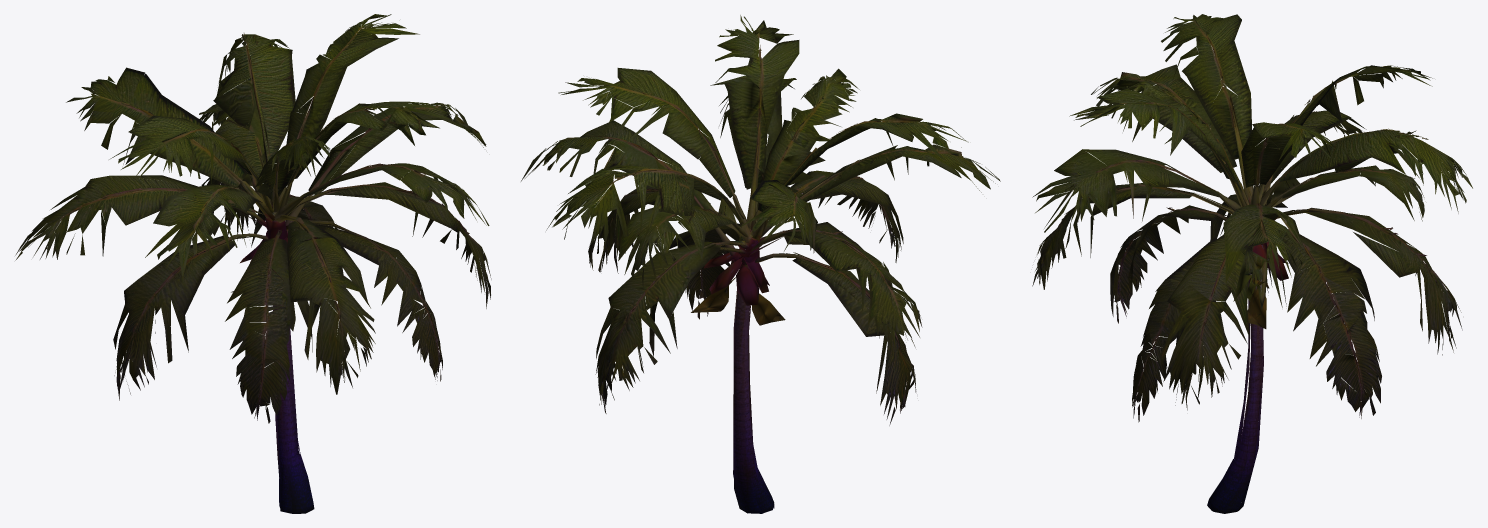
File: vegetation.coconut-palm-01.lod1.glb
The picture shows the model from 3 angles, left to right: view 1: azimuth 30°, elevation 25°; view 2: azimuth 150°, elevation 25°; view 3: azimuth 270°, elevation 25°; orthographic projection.
Parts seen in each view (by area): view 1: vegetation.coconut-palm-01_LOD1_00; view 2: vegetation.coconut-palm-01_LOD1_00; view 3: vegetation.coconut-palm-01_LOD1_00.
Part boxes in pixels (x1,y1,x2,y2): vegetation.coconut-palm-01_LOD1_00: (15,14,491,513); vegetation.coconut-palm-01_LOD1_00: (521,15,1000,513); vegetation.coconut-palm-01_LOD1_00: (1032,14,1472,513).
Size of the model in its own units: 9.48 by 9 by 8.44.
1 material, 1 textured.
